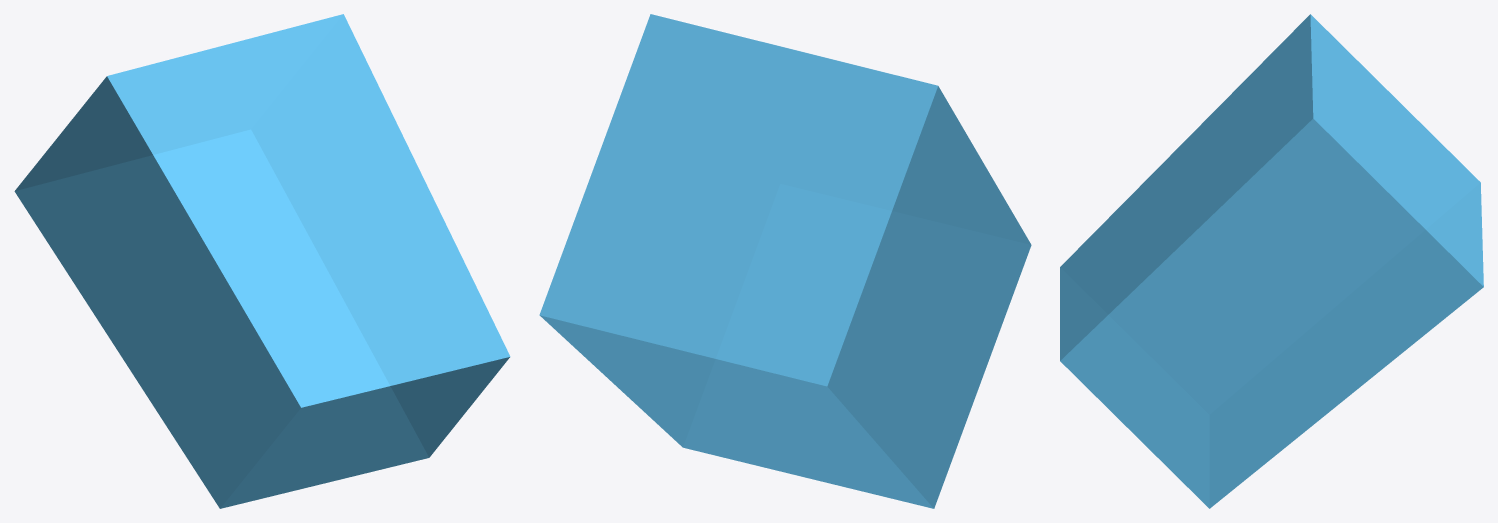
File: Event_421278790_HBrechit_5.fbx
3 renders of one model, left to right at view 1: azimuth 30°, elevation 25°; view 2: azimuth 150°, elevation 25°; view 3: azimuth 270°, elevation 25°, orthographic. The views are drawn at different scales.
Parts seen in each view (by area): view 1: Model; view 2: Model; view 3: Model.
Boxes of the visible parts, x1=… form: Model: x1=14, y1=14, x2=510, y2=508; Model: x1=539, y1=14, x2=1031, y2=508; Model: x1=1060, y1=14, x2=1483, y2=508.
Bounding box in the file's own units: 0.5165 × 0.7559 × 0.7694.
